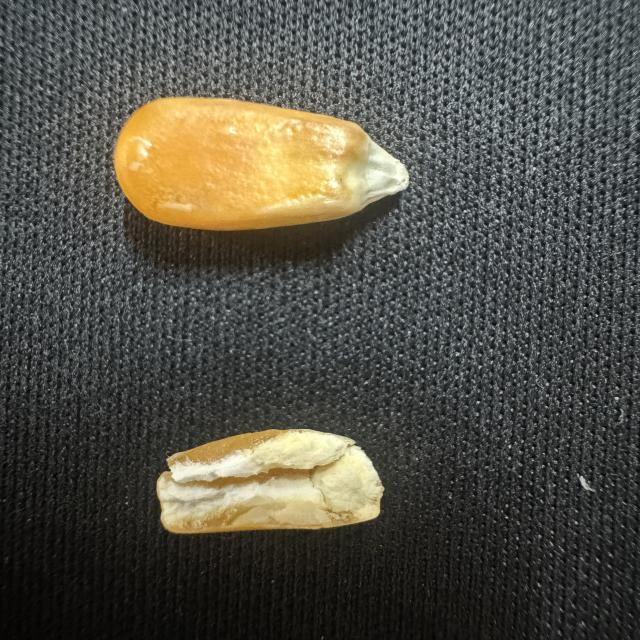Bad-Seed: (149, 422, 397, 548)
Good-Seed: (104, 88, 419, 242)
